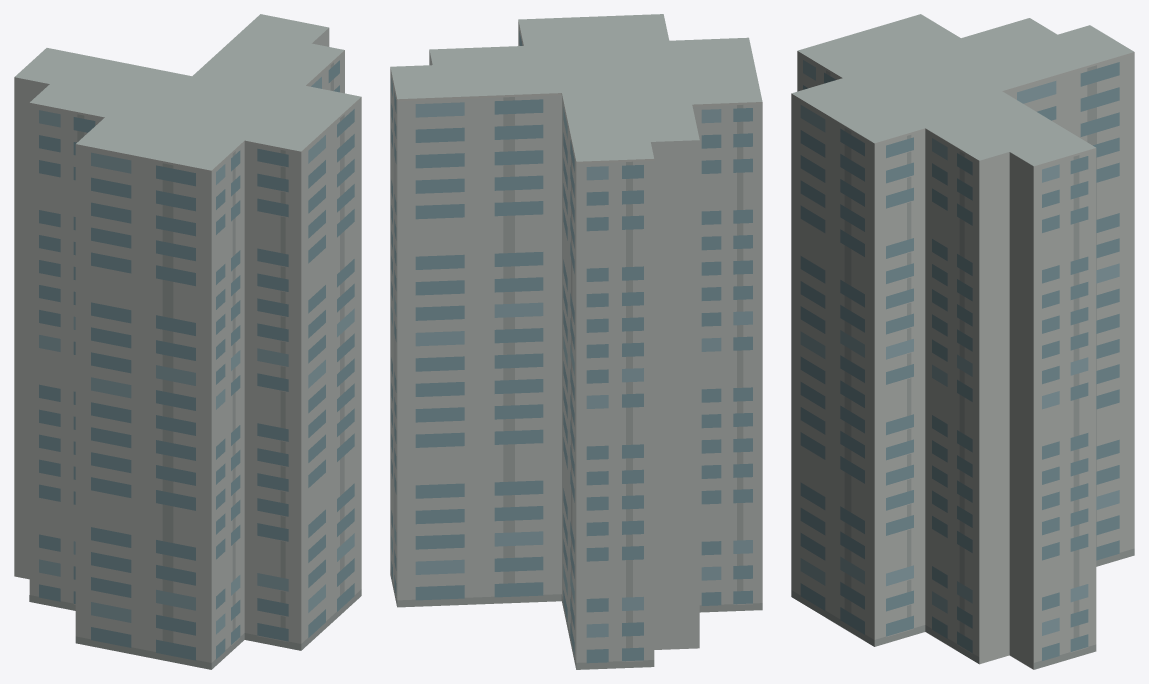
File: residential-7c7a060a-1ae3-486e-8954-5e66a13bd8f7.glb
3 views of the same model, side by side, from view 1: azimuth 30°, elevation 25°; view 2: azimuth 150°, elevation 25°; view 3: azimuth 270°, elevation 25° (orthographic).
Parts seen in each view (by area): view 1: residential-7c7a060a-1ae3-486e-8954-5e66a13bd8f7.tmp; view 2: residential-7c7a060a-1ae3-486e-8954-5e66a13bd8f7.tmp; view 3: residential-7c7a060a-1ae3-486e-8954-5e66a13bd8f7.tmp.
Part boxes in pixels (x1,y1,x2,y2): residential-7c7a060a-1ae3-486e-8954-5e66a13bd8f7.tmp: (14,14,361,669); residential-7c7a060a-1ae3-486e-8954-5e66a13bd8f7.tmp: (390,14,762,669); residential-7c7a060a-1ae3-486e-8954-5e66a13bd8f7.tmp: (791,14,1134,669).
Size of the model in its own units: 37 by 57 by 35.22.
